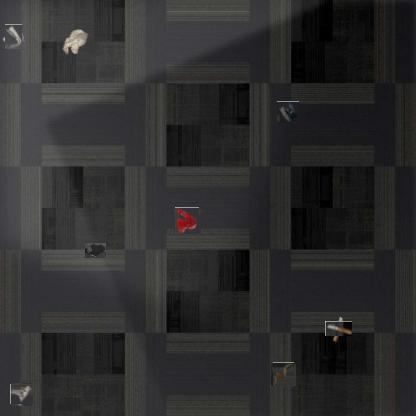dirty: (61, 28, 89, 56), (272, 363, 295, 387), (278, 101, 299, 123), (11, 384, 33, 405), (3, 26, 24, 48), (328, 318, 349, 339)
liquid: (175, 208, 200, 234), (84, 242, 106, 258)
